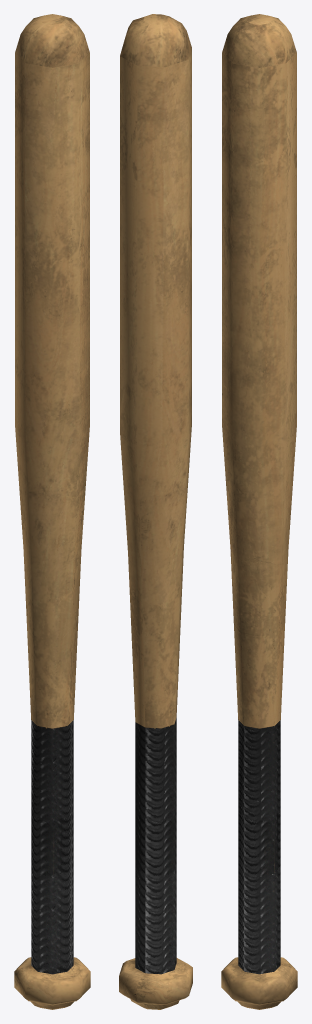
File: BaseballBat_Raw_Wood(Grime).fbx
3 renders of one model, left to right at view 1: azimuth 90°, elevation 25°; view 2: azimuth 150°, elevation 25°; view 3: azimuth 270°, elevation 25°, orthographic.
Parts seen in each view (by area): view 1: BaseballBat_Raw_Wood(Grime); view 2: BaseballBat_Raw_Wood(Grime); view 3: BaseballBat_Raw_Wood(Grime).
Part boxes in pixels (box(x1,y1,x2,y2)): BaseballBat_Raw_Wood(Grime): box(14, 14, 90, 1009); BaseballBat_Raw_Wood(Grime): box(119, 14, 192, 1009); BaseballBat_Raw_Wood(Grime): box(221, 14, 297, 1009).
Bounding box in the file's own units: 5.92 × 84.03 × 5.92.
